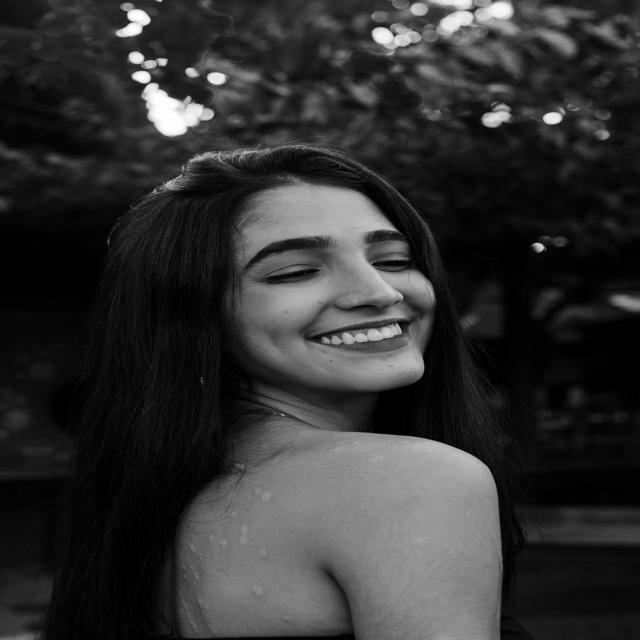Happiness: (223, 178, 442, 397)
